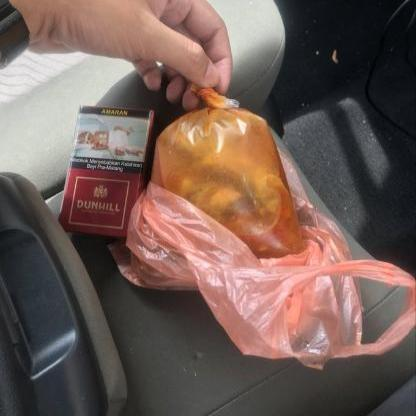objects: (58, 106, 154, 237)
